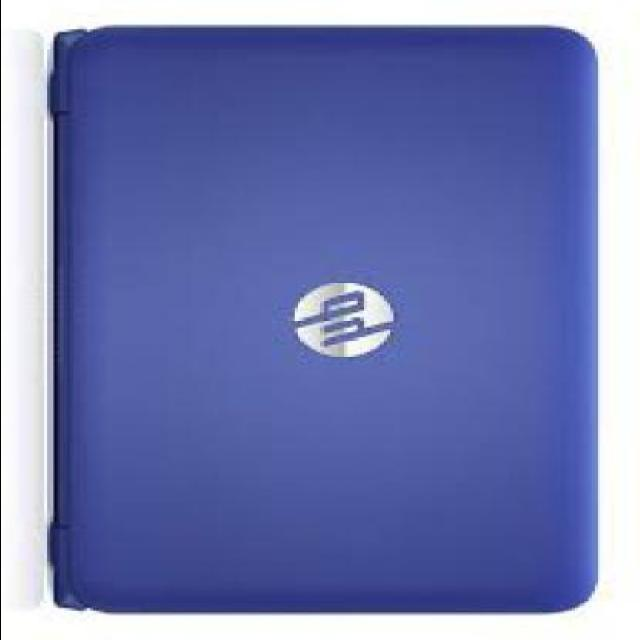laptop: (48, 24, 599, 614)
